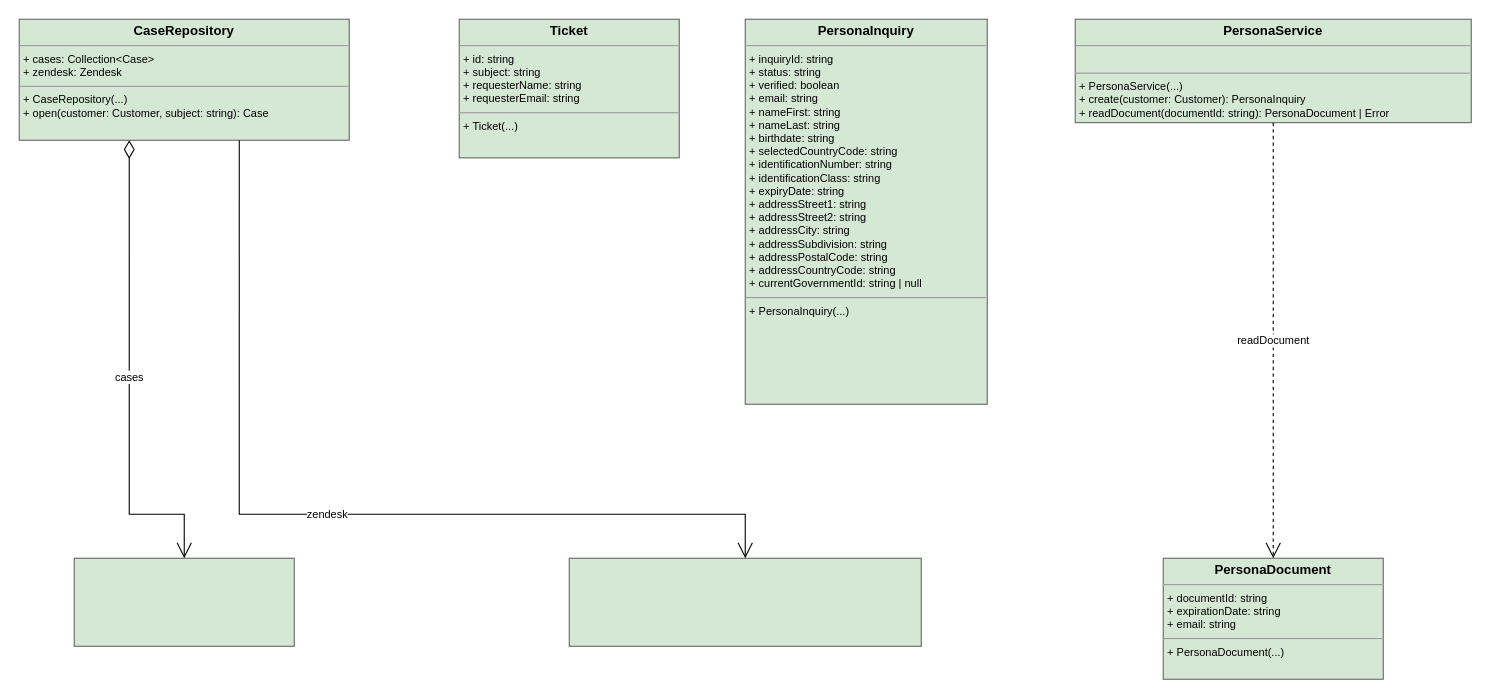
This 1491x699 diagram has some shape labels left out. The shapes that lost their labels are listed below. From the top down, each one's centre as x and y in pixels, then its label:
At (x=183, y=601): "Case + subject: string + Case(...)".
At (x=744, y=601): "Zendesk + Zendesk(...) + create(customer: Customer, subject: string): Ticket".
